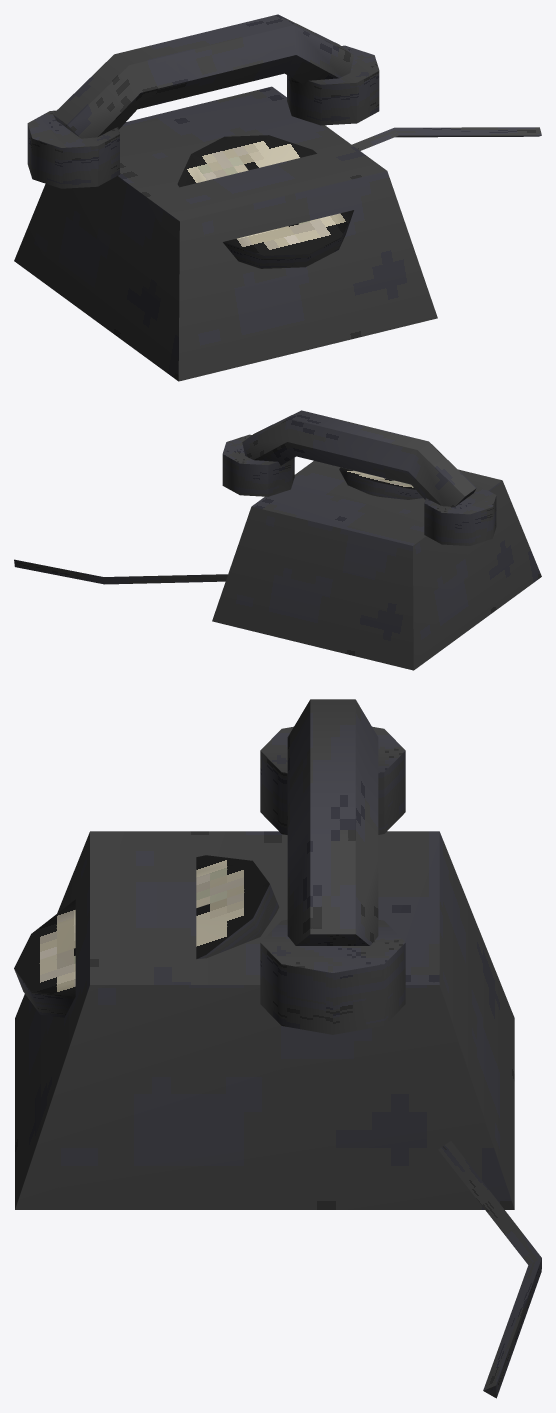
File: phone.glb
3 renders of one model, top to bottom at view 1: azimuth 30°, elevation 25°; view 2: azimuth 150°, elevation 25°; view 3: azimuth 270°, elevation 25°, orthographic. The views are drawn at different scales.
Visible parts, largest first — view 1: phone, phone_handset; view 2: phone, phone_handset; view 3: phone, phone_handset.
Boxes of the visible parts, box(x1,y1,x2,y2) form: phone: box(14, 86, 541, 381); phone_handset: box(27, 14, 379, 188); phone: box(14, 461, 541, 670); phone_handset: box(222, 410, 496, 545); phone: box(14, 831, 541, 1398); phone_handset: box(260, 699, 405, 1034).
Bounding box in the file's own units: 0.4329 × 0.172 × 0.2325.
Materials: 1 (1 with a texture image).
